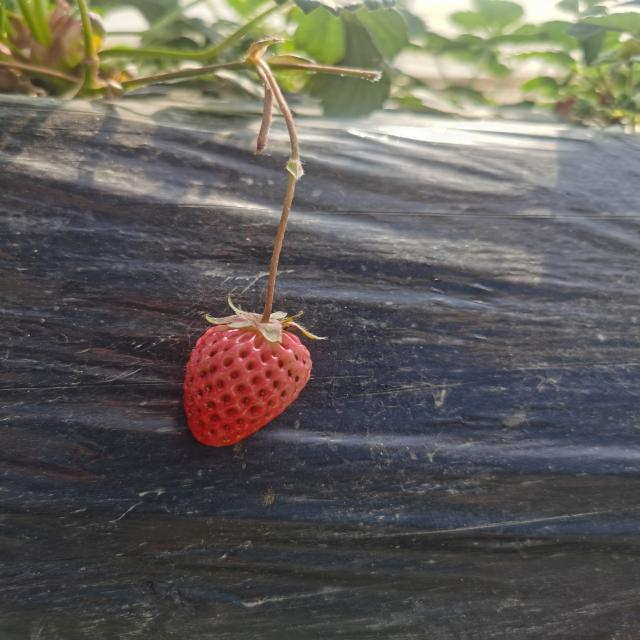stem: (260, 265, 277, 325)
strawberry: (183, 321, 313, 447)
